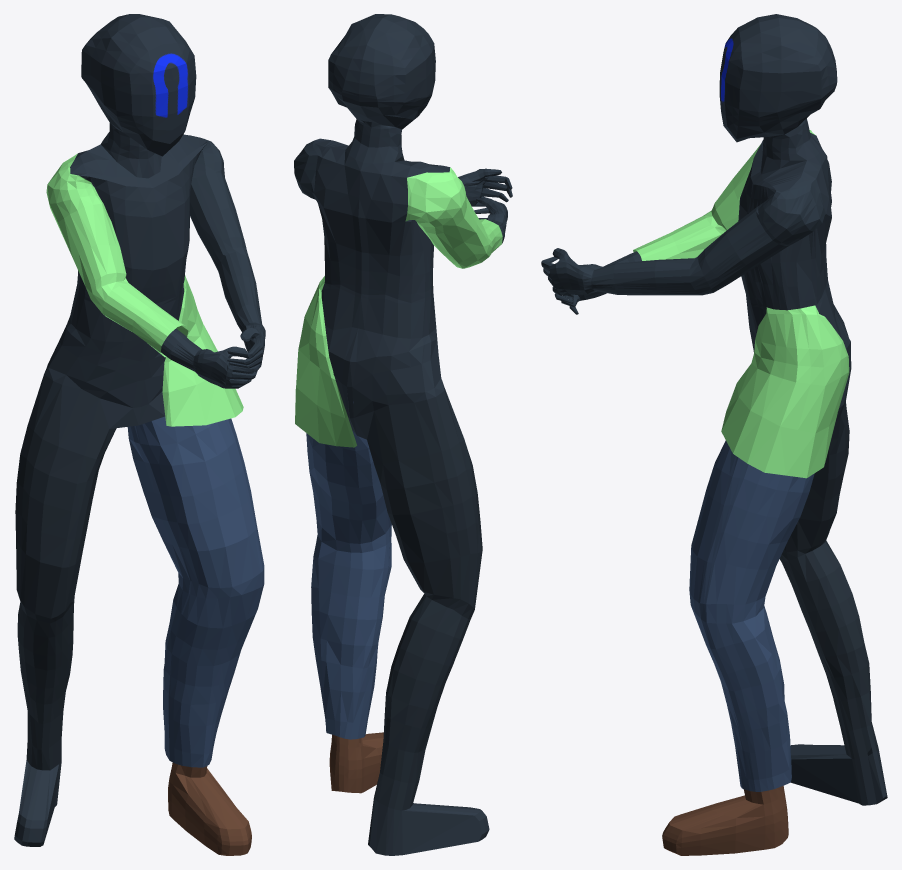
Rendered from Mar_WF_000018.obj.
3 views of the same model, side by side, from view 1: azimuth 30°, elevation 25°; view 2: azimuth 150°, elevation 25°; view 3: azimuth 270°, elevation 25° (orthographic). The views are drawn at different scales.
Visible parts, largest first — view 1: Cube.000_Cube.001; view 2: Cube.000_Cube.001; view 3: Cube.000_Cube.001.
Boxes of the visible parts, left/top/right/bottom form: Cube.000_Cube.001: left=14, top=14, right=265, bottom=855; Cube.000_Cube.001: left=294, top=14, right=512, bottom=855; Cube.000_Cube.001: left=541, top=14, right=887, bottom=855.
Bounding box in the file's own units: 1.05 × 3.86 × 1.5.
